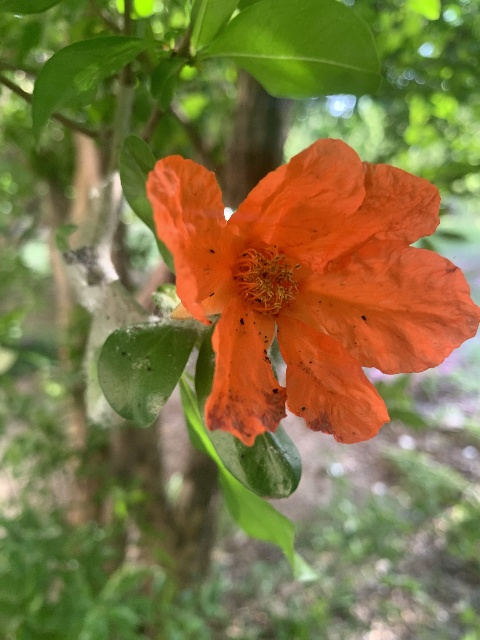flower: (145, 137, 480, 447)
